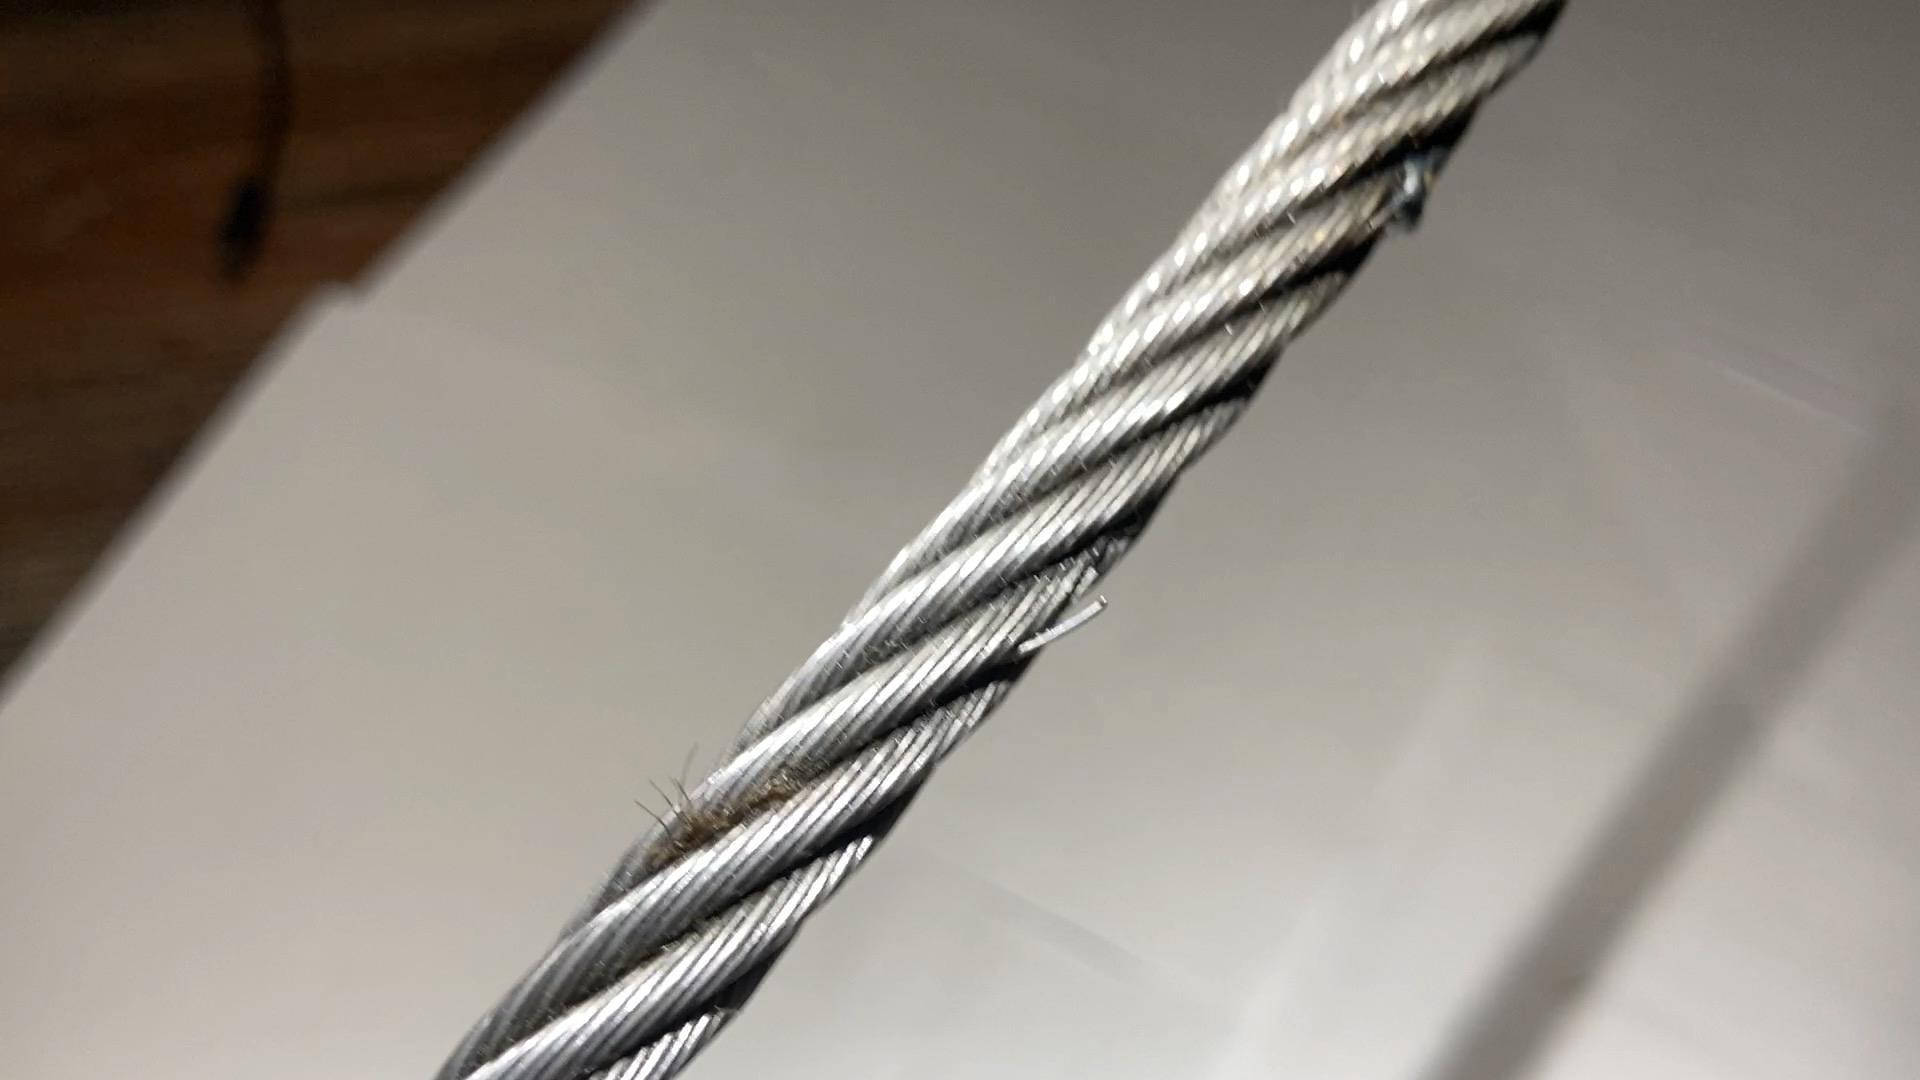break: (998, 587, 1110, 650)
